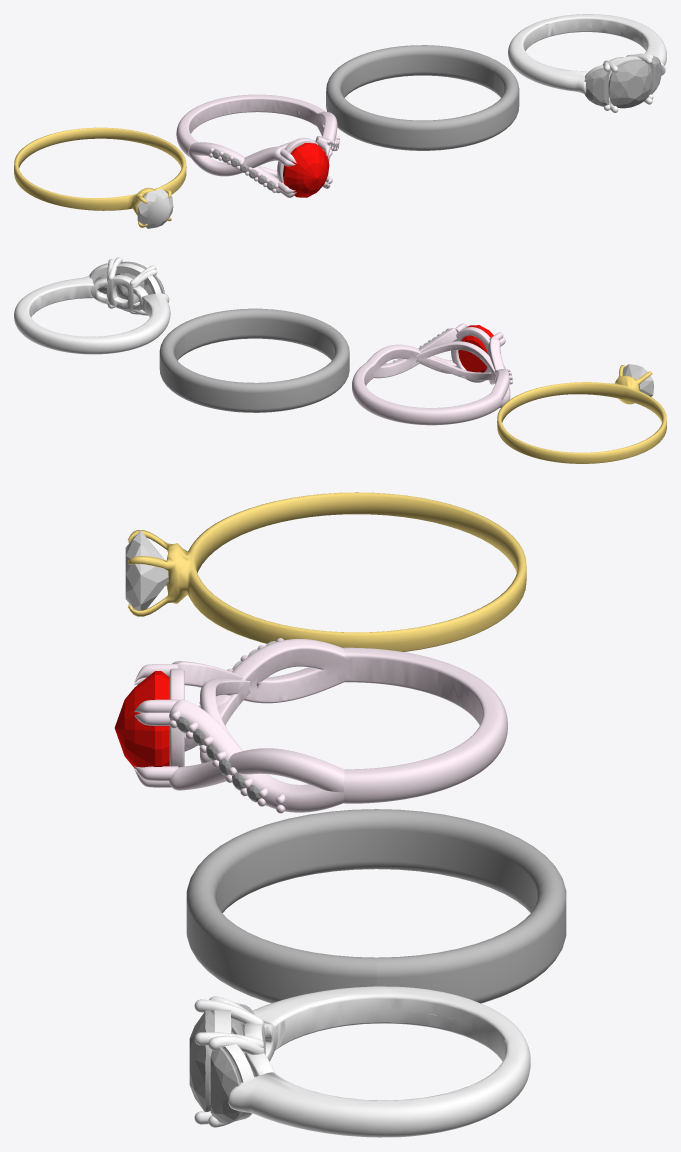
Rendered from RINGS.fbx.
3 views of the same model, one above another, from view 1: azimuth 30°, elevation 25°; view 2: azimuth 150°, elevation 25°; view 3: azimuth 270°, elevation 25° (orthographic). The views are drawn at different scales.
Visible parts, largest first — view 1: classic ring, gloriousone, gloriousosecond, ring2; view 2: classic ring, gloriousone, gloriousosecond, ring2; view 3: classic ring, gloriousone, gloriousosecond, ring2.
Boxes of the visible parts, x1,y1,x2,y2 form: classic ring: [326, 45, 519, 150]; gloriousone: [176, 94, 339, 197]; gloriousosecond: [508, 14, 666, 112]; ring2: [14, 127, 186, 228]; classic ring: [159, 308, 349, 412]; gloriousone: [352, 323, 512, 425]; gloriousosecond: [14, 257, 170, 354]; ring2: [497, 364, 666, 463]; classic ring: [186, 809, 566, 1003]; gloriousone: [114, 638, 507, 813]; gloriousosecond: [189, 986, 530, 1137]; ring2: [125, 492, 526, 651].
Bounding box in the file's own units: 155 × 13.04 × 48.37.
